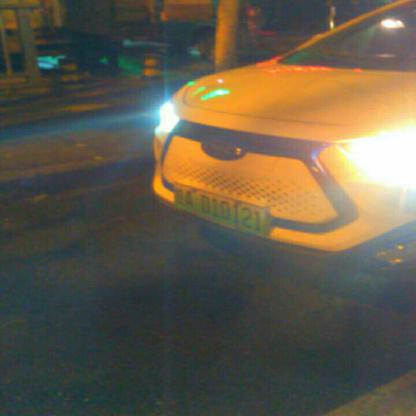lp: (170, 182, 266, 236)
